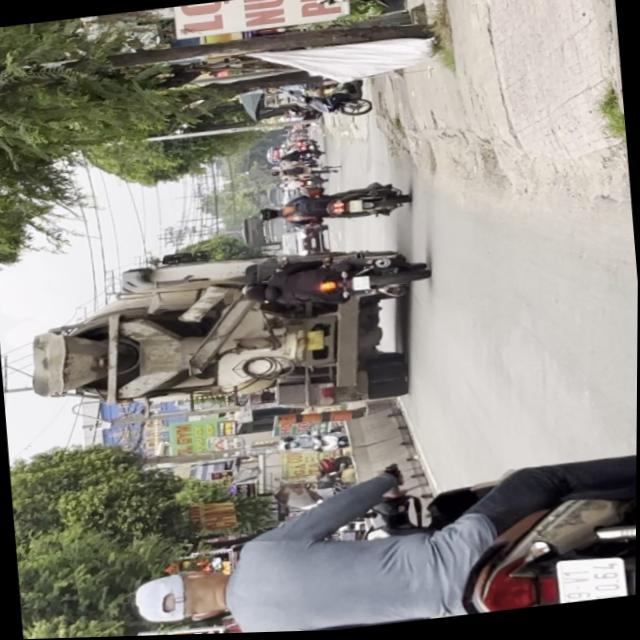licenseplate: (120, 435, 637, 637)
motorcyclist: (131, 567, 232, 631)
nohelmet: (555, 557, 626, 607)
